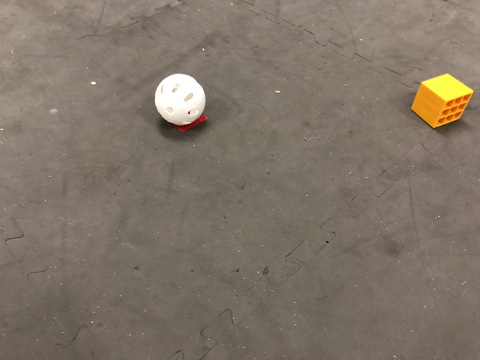ball: (146, 60, 221, 141)
block: (408, 55, 475, 137)
